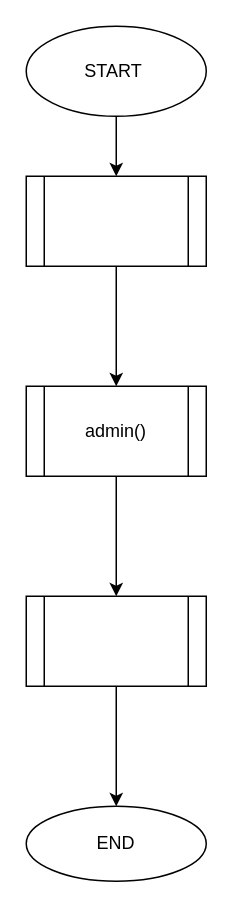
Image size: 233x908. Some labels were removed from this diagram. Each missing label, with the centre of its shape:
"moderator()" goes at point 115,220.
"voter()" goes at point 115,640.
